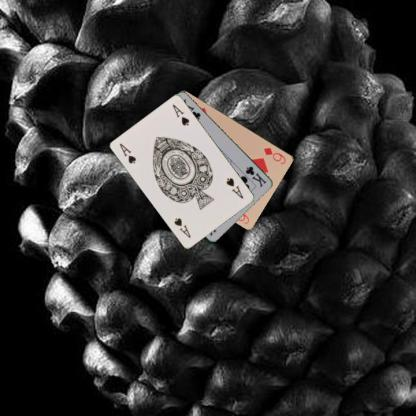6d: (261, 145, 287, 165)
As: (224, 175, 245, 200), (118, 140, 138, 165)
Kc: (243, 164, 268, 188)
